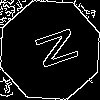N: (25, 25, 80, 74)
